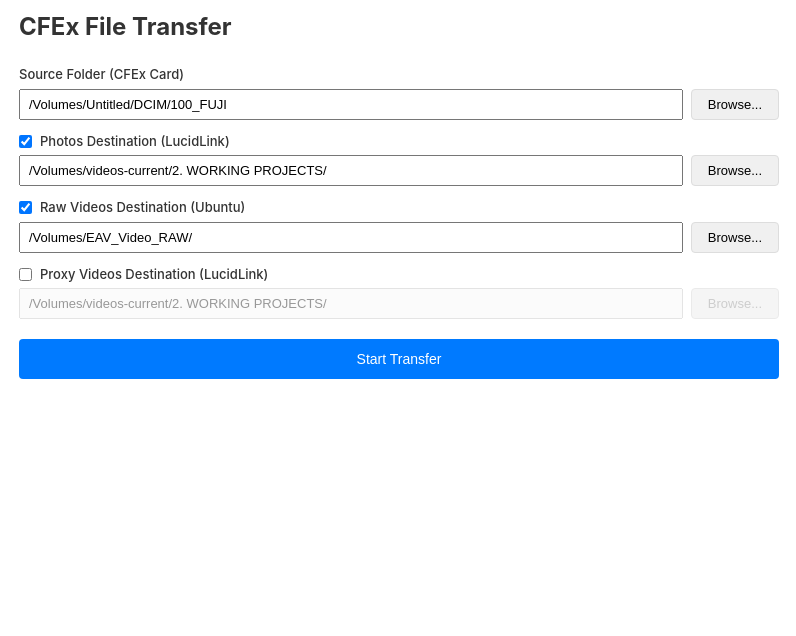
it: CfexTransferWindow › Proxy Generation Progress (TDD - RED phase) › should display proxy progress section after transfer completes with proxies enabled
// Enable proxies and start transfer
Click the checkbox named "Proxy Videos Destination (LucidLink)" at x=26, y=274, box [19,268,32,281]
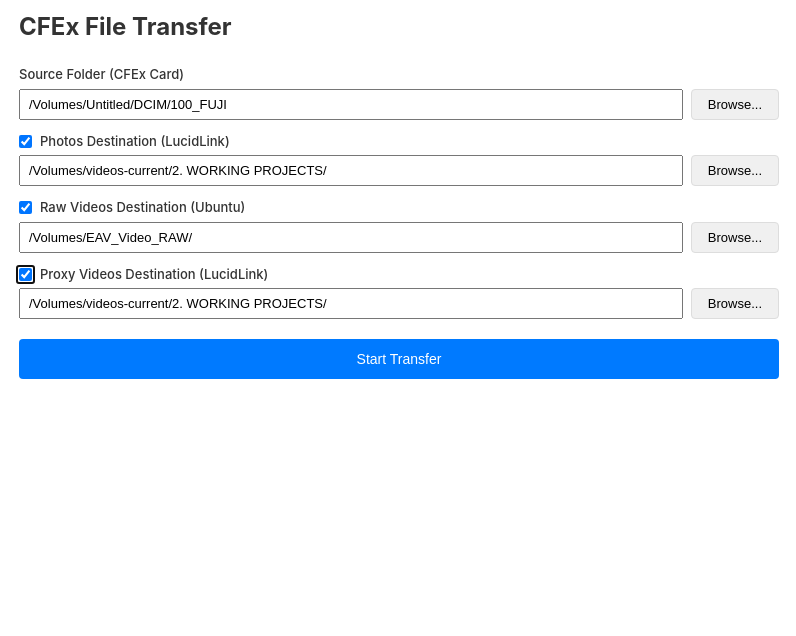
Click the button "Start Transfer" at x=399, y=359, box [19,339,779,379]
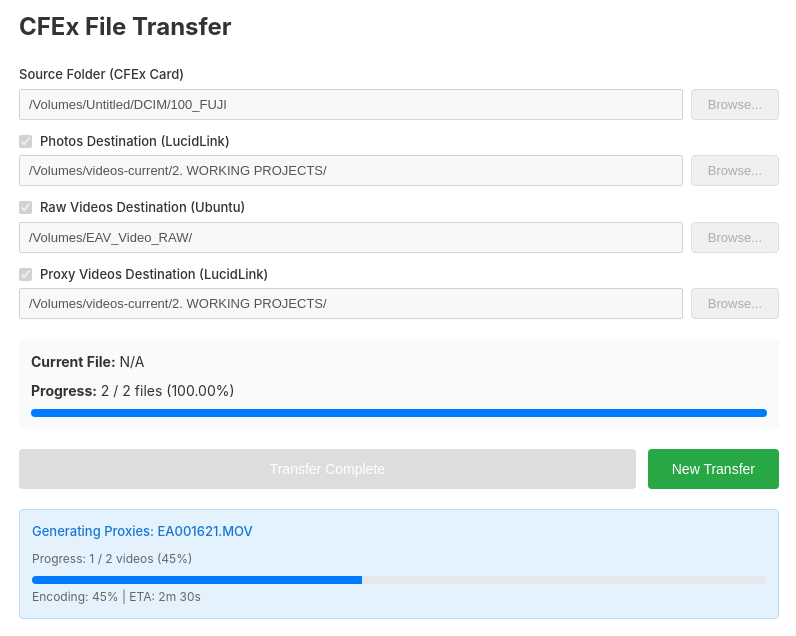
Expected: the text "Generating Proxies: EA001621.MOV" is shown, [32,523,253,539]
Expected: the text "Progress: 1 / 2 videos (45%)" is shown, [32,550,192,566]
Expected: the text "Encoding: 45% | ETA: 2m 30s" is shown, [32,588,201,604]
